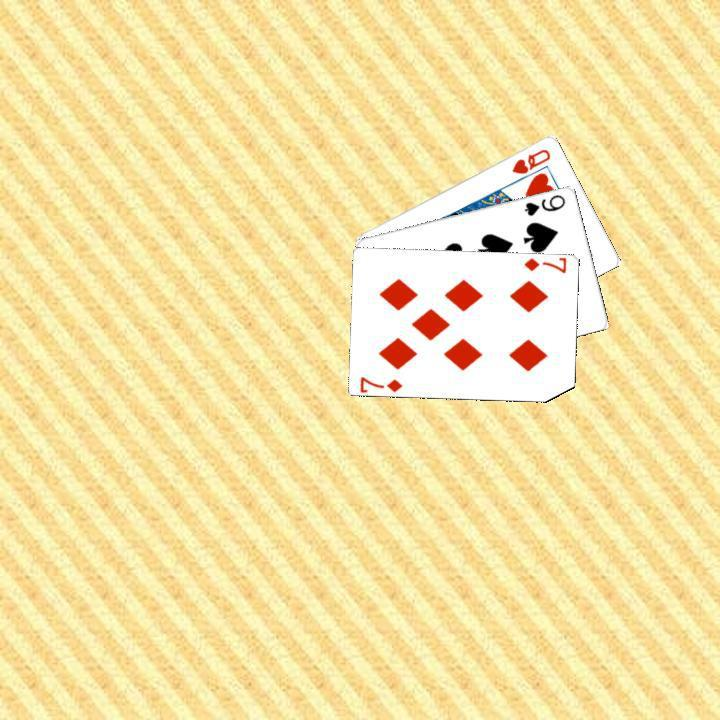7: (520, 254, 569, 275), (356, 372, 405, 393)
9: (520, 190, 567, 218)
Q: (507, 144, 553, 176)
